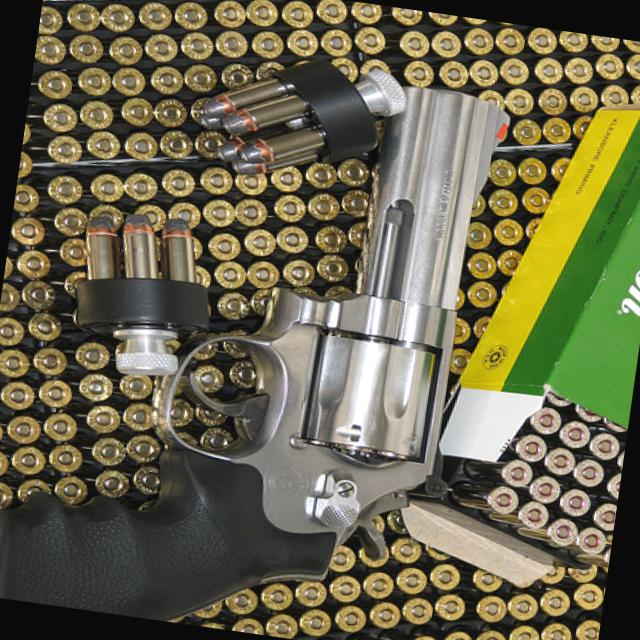handgun: (0, 33, 518, 639)
